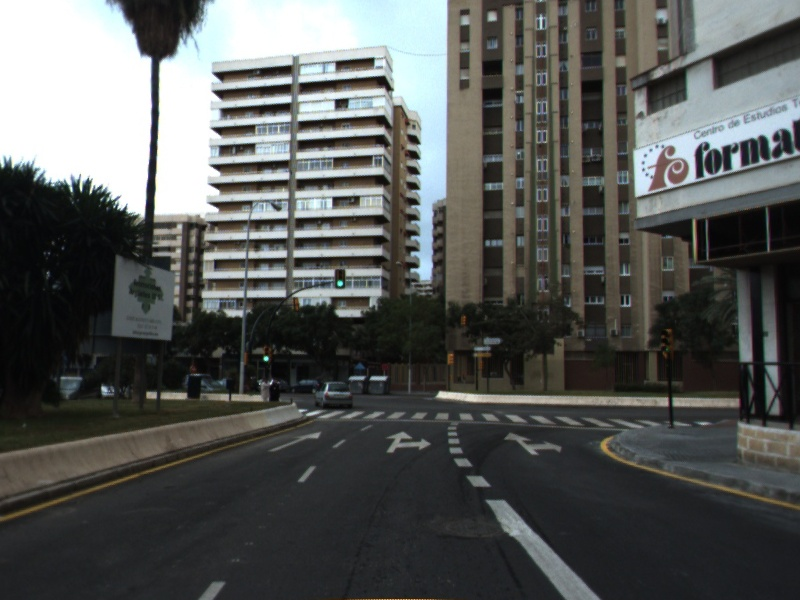STRAIGHT: (265, 429, 325, 454)
STRAIGHT_RIGHT: (502, 430, 564, 457), (382, 428, 433, 454)
